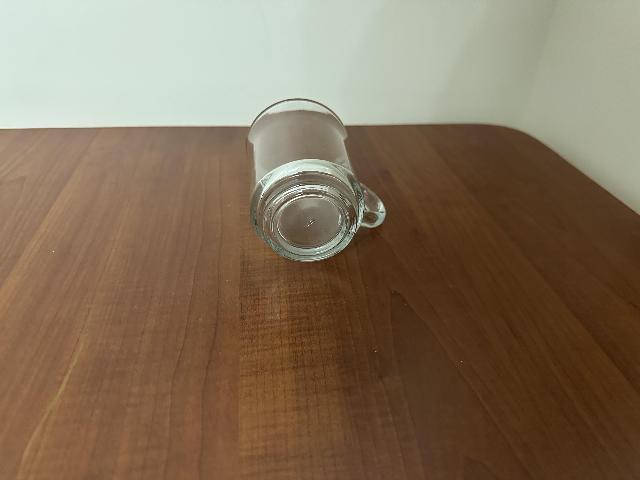Cam: (237, 92, 390, 265)
